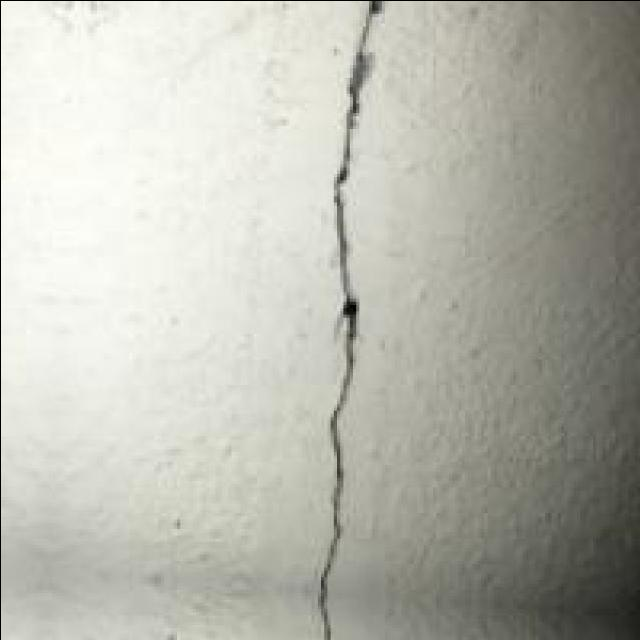SurfaceCrack: (294, 0, 402, 640)
